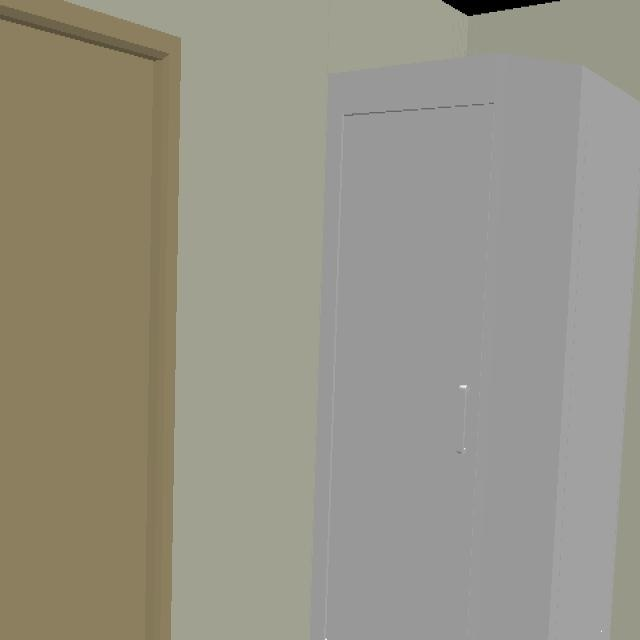shower: (310, 55, 640, 640)
